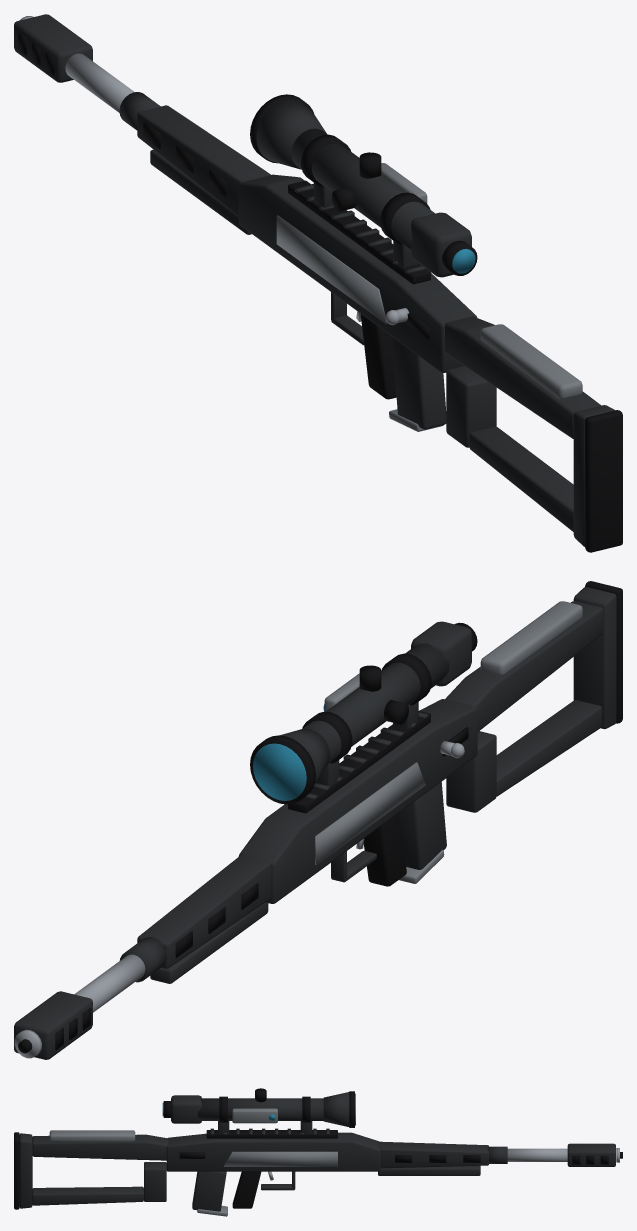
Rendered from sniper_rifle.obj.
3 views of the same model, one above another, from view 1: azimuth 30°, elevation 25°; view 2: azimuth 150°, elevation 25°; view 3: azimuth 270°, elevation 25° (orthographic). The views are drawn at different scales.
Bounding box in the file's own units: 0.1503 × 0.4744 × 2.13.
